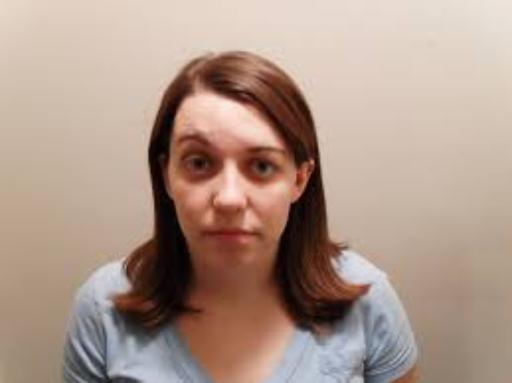left_eye: (248, 161, 282, 178)
left_lip_corner: (252, 228, 267, 244)
right_eye: (183, 157, 213, 173)
right_lip_corner: (197, 227, 213, 242)
